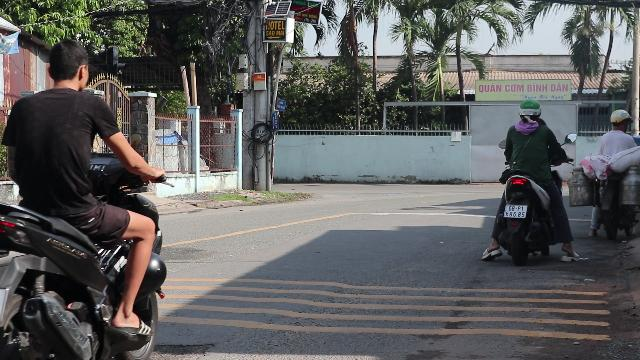helmet: (516, 96, 542, 121), (609, 108, 631, 130)
licenseplate: (504, 204, 528, 218)
motorcyclist: (0, 37, 174, 355), (486, 96, 574, 264), (588, 109, 640, 240)
nohelmet: (43, 40, 91, 90)
